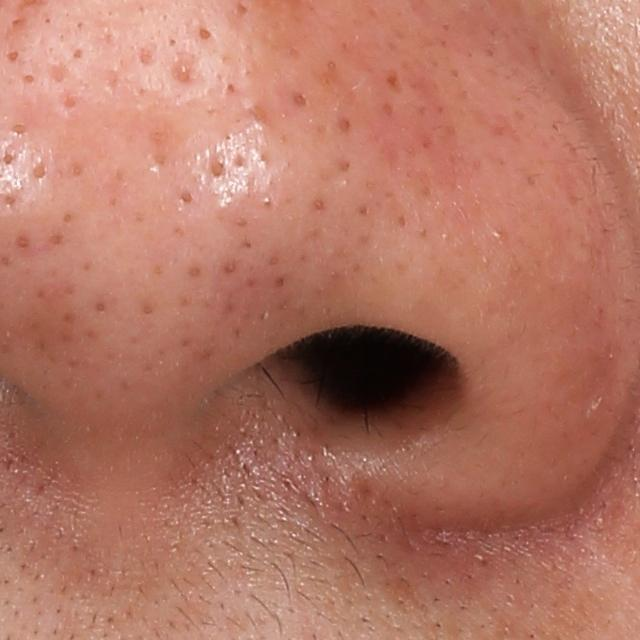comedo: (170, 59, 200, 91), (290, 89, 312, 111), (12, 232, 33, 253), (31, 158, 50, 181), (208, 158, 227, 180), (7, 123, 31, 140), (197, 22, 215, 44), (176, 188, 195, 206), (4, 49, 21, 66), (223, 79, 238, 96), (93, 300, 107, 315), (22, 72, 36, 85)
